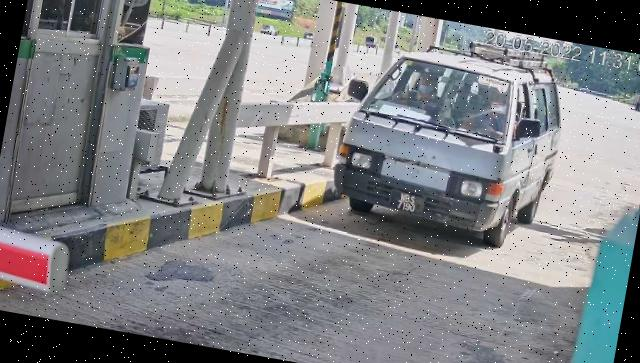License_Plate: (387, 188, 428, 219)
van: (327, 25, 574, 255)
